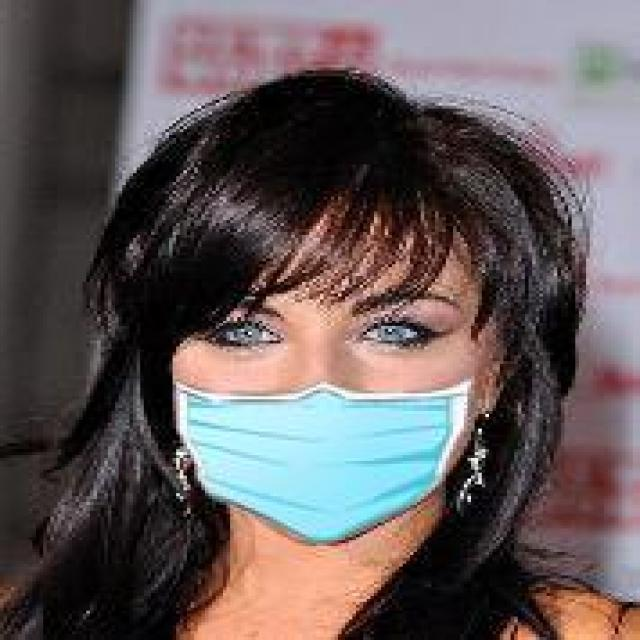mask: (122, 70, 579, 555)
